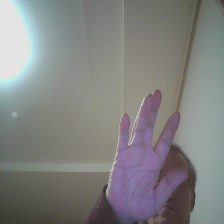hand: (104, 73, 192, 222)
